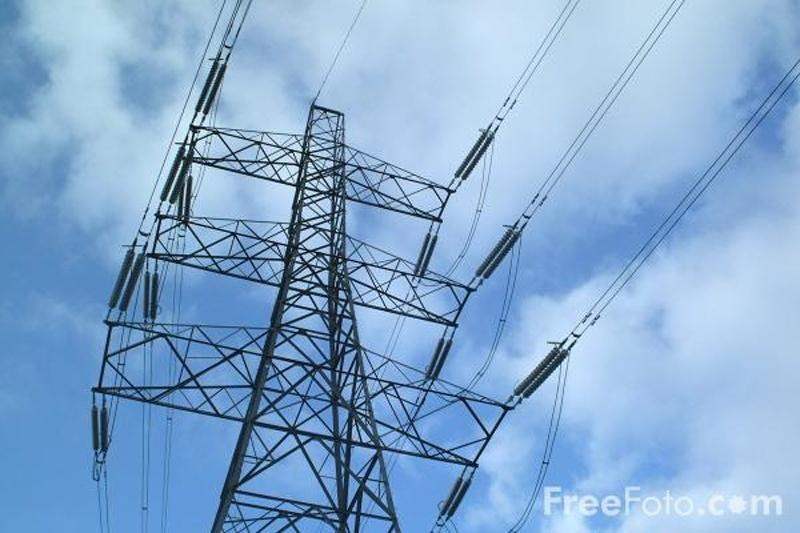power_tower: (87, 45, 581, 533)
